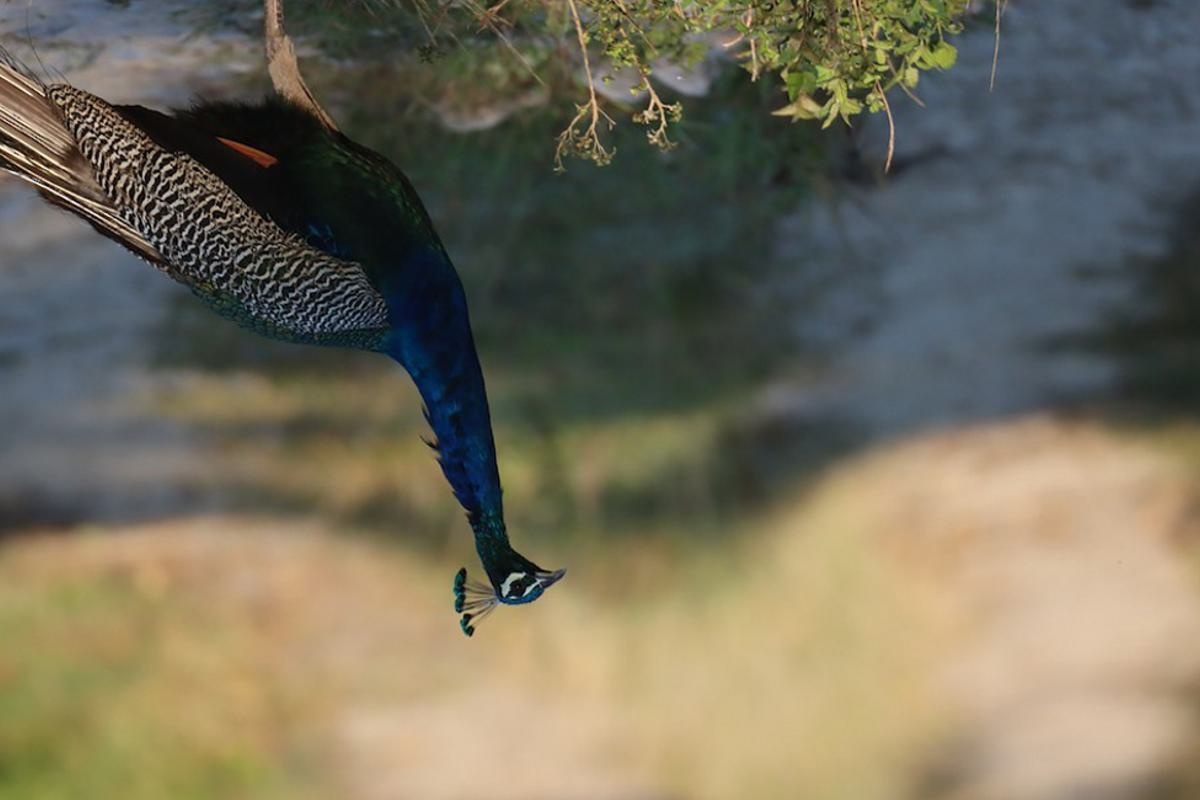peacock: (1, 22, 597, 642)
